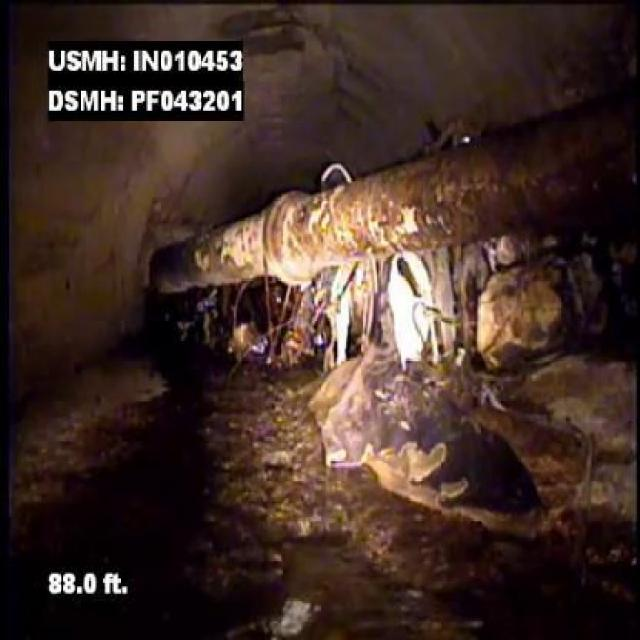Debris: (471, 250, 638, 392)
Utility intrusion: (157, 108, 631, 297)
